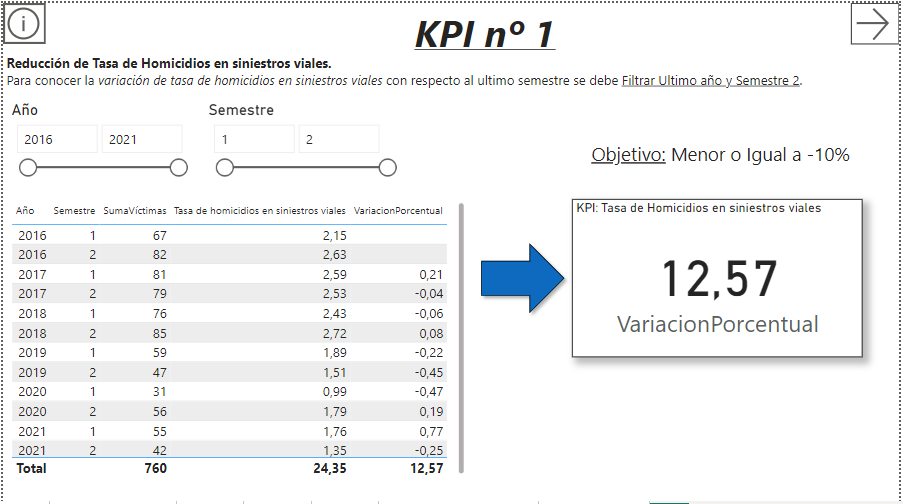

The dashboard page shown, as its layout file describes it:
{"tool":"powerbi","page":{"name":"KPI 1","canvas":[1280,720],"ordinal":2},"visuals":[{"type":"tableEx","fields":{"Values":["Calendario.Fechas.Variación.Jerarquía de fechas.Año","Calendario.Semestre","Accidentes y victimas.SumaVíctimas","Accidentes y victimas.Tasa de homicidios en siniestros viales","Accidentes y victimas.VariacionPorcentual"]},"box":[7.2,279.4,656.6,401.8],"z":0},{"type":"slicer","title":"Año","fields":{"Values":["Calendario.Año"]},"box":[7.2,139.7,265,128.2],"z":1000},{"type":"card","title":"KPI: Tasa de Homicidios en siniestros viales","fields":{"Values":["Accidentes y victimas.VariacionPorcentual"]},"box":[812.2,279.4,414.7,226.1],"z":2000},{"type":"slicer","title":"Semestre","fields":{"Values":["Calendario.Semestre"]},"box":[288,139.7,282.2,128.2],"z":3000},{"type":"textbox","box":[583.2,0,240.5,89.3],"z":4000},{"type":"textbox","box":[0,67.7,1280.2,72],"z":5000},{"type":"shape","box":[673.9,334.1,136.8,118.1],"z":6000},{"type":"textbox","box":[835.2,191.5,391.7,51.8],"z":7000},{"type":"actionButton","box":[0,0,61.4,58.6],"z":8000},{"type":"actionButton","box":[1211.4,0,68.6,58.6],"z":9000}]}

Visuals, with their boxes in screenshot pixels (x1, y1, x2, y2), scaled from the page's 1280x720 canvas onto the 903x504 screenshot:
tableEx - Calendario.Fechas.Variación.Jerarquía de fechas.Año x Calendario.Semestre: x1=5 y1=196 x2=468 y2=477
"Año" slicer: x1=5 y1=98 x2=192 y2=188
"KPI: Tasa de Homicidios en siniestros viales" card: x1=573 y1=196 x2=866 y2=354
"Semestre" slicer: x1=203 y1=98 x2=402 y2=188
textbox: x1=411 y1=0 x2=581 y2=63
textbox: x1=0 y1=47 x2=902 y2=98
shape: x1=475 y1=234 x2=572 y2=317
textbox: x1=589 y1=134 x2=866 y2=170
actionButton: x1=0 y1=0 x2=43 y2=41
actionButton: x1=855 y1=0 x2=902 y2=41
